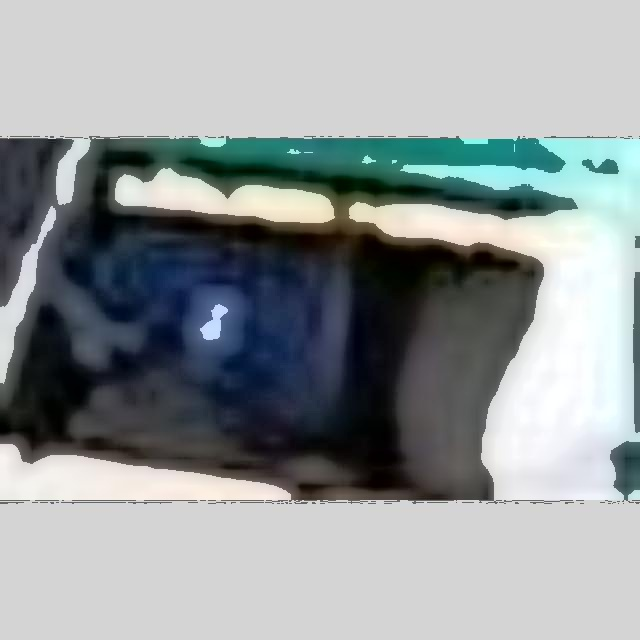tidak-pakai: (111, 204, 362, 427)
